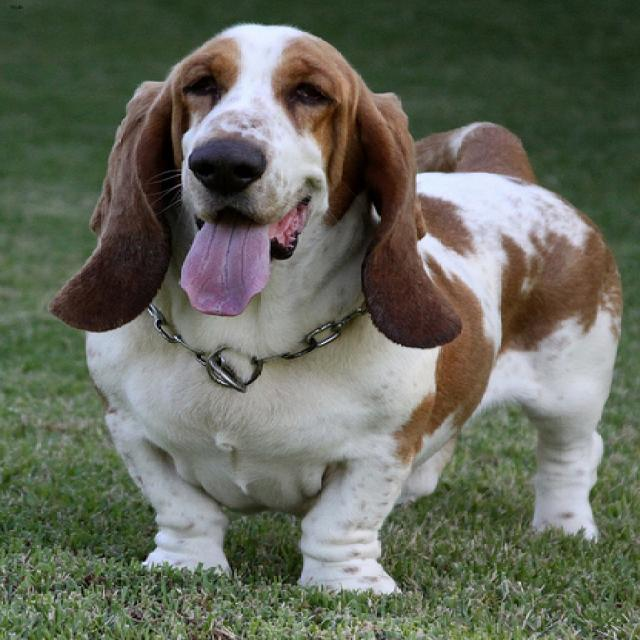dog-basset_hound: (28, 12, 637, 602)
